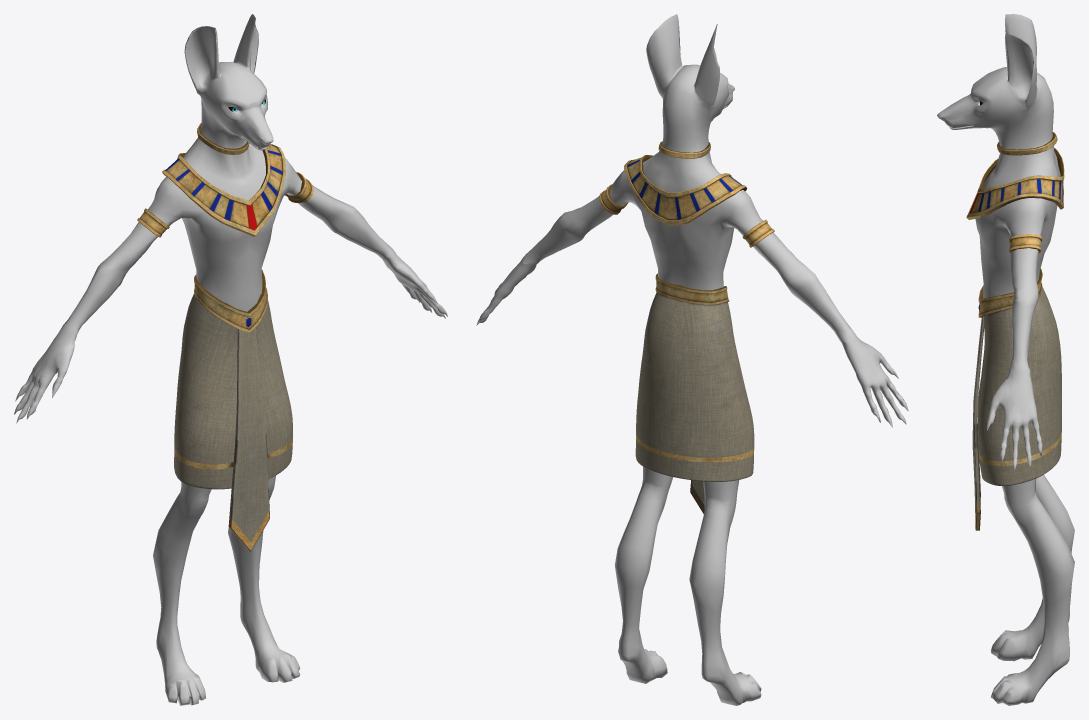
File: anubis.fbx
3 renders of one model, left to right at view 1: azimuth 30°, elevation 25°; view 2: azimuth 150°, elevation 25°; view 3: azimuth 270°, elevation 25°, orthographic. The views are drawn at different scales.
Parts seen in each view (by area): view 1: body_low, skirt_low, loincloth_low, necklace_low, belt_low, armband_low; view 2: body_low, skirt_low, necklace_low, belt_low, armband_low; view 3: body_low, skirt_low, necklace_low, loincloth_low, belt_low, armband_low, choker_low.
Part boxes in pixels (x1,y1,x2,y2): body_low: (14,14,447,705); skirt_low: (174,293,292,489); loincloth_low: (228,327,269,551); necklace_low: (162,144,285,236); belt_low: (194,270,267,332); armband_low: (137,172,313,237); body_low: (476,14,908,705); skirt_low: (635,292,754,481); necklace_low: (624,155,747,225); belt_low: (655,273,729,304); armband_low: (599,184,774,247); body_low: (937,14,1074,705); skirt_low: (977,287,1061,485); necklace_low: (966,148,1064,219); loincloth_low: (972,316,984,530); belt_low: (978,268,1042,317); armband_low: (1008,234,1042,252); choker_low: (997,132,1057,155).
Size of the model in its own units: 112 by 167 by 31.86.
